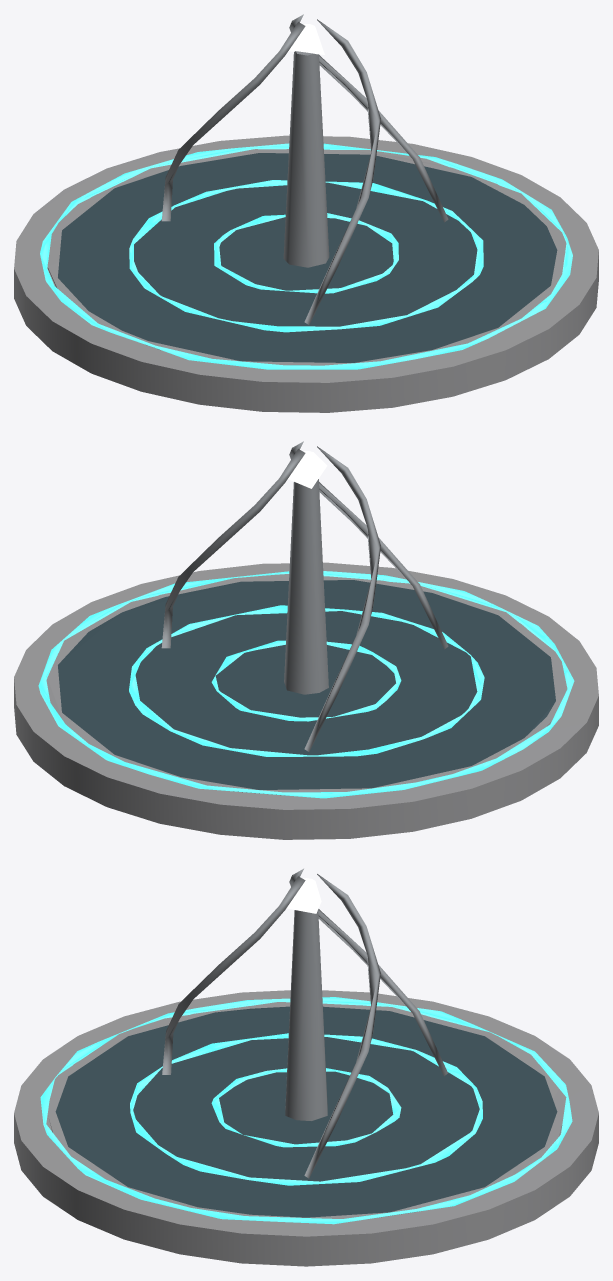
File: prop_fountain_plaza_lod1.glb
3 views of the same model, one above another, from view 1: azimuth 30°, elevation 25°; view 2: azimuth 150°, elevation 25°; view 3: azimuth 270°, elevation 25° (orthographic).
Visible parts, largest first — view 1: fountain_water_lod1, fountain_basin_lod1, fountain_steel_lod1, fountain_led_lod1, fountain_top_lod1; view 2: fountain_water_lod1, fountain_basin_lod1, fountain_steel_lod1, fountain_led_lod1, fountain_top_lod1; view 3: fountain_water_lod1, fountain_basin_lod1, fountain_steel_lod1, fountain_led_lod1, fountain_top_lod1.
Part boxes in pixels (<box>): fountain_water_lod1: <box>58,153,557,362</box>; fountain_basin_lod1: <box>14,135,598,412</box>; fountain_steel_lod1: <box>161,14,448,324</box>; fountain_led_lod1: <box>40,143,572,369</box>; fountain_top_lod1: <box>288,24,324,54</box>; fountain_water_lod1: <box>58,580,555,789</box>; fountain_basin_lod1: <box>14,562,598,839</box>; fountain_steel_lod1: <box>161,441,448,751</box>; fountain_led_lod1: <box>38,571,574,798</box>; fountain_top_lod1: <box>288,451,327,488</box>; fountain_water_lod1: <box>55,1006,557,1217</box>; fountain_basin_lod1: <box>14,990,598,1266</box>; fountain_steel_lod1: <box>162,868,447,1178</box>; fountain_led_lod1: <box>40,997,572,1224</box>; fountain_top_lod1: <box>287,878,321,913</box>.
Size of the model in its own units: 13.99 by 7.13 by 13.99.
